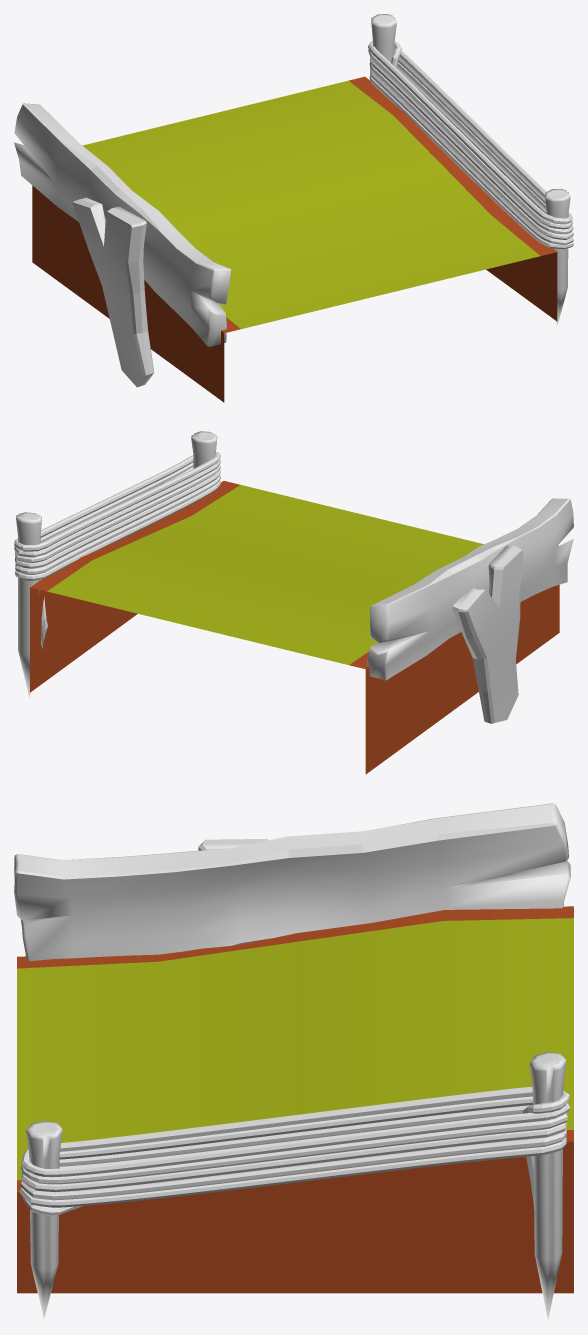
Rendered from Straight_Up_Begin_End01.fbx.
3 renders of one model, top to bottom at view 1: azimuth 30°, elevation 25°; view 2: azimuth 150°, elevation 25°; view 3: azimuth 270°, elevation 25°, orthographic. The views are drawn at different scales.
Parts seen in each view (by area): view 1: Cube.007; view 2: Cube.007; view 3: Cube.007.
Boxes of the visible parts, x1,y1,x2,y2 form: Cube.007: [14, 14, 573, 402]; Cube.007: [14, 431, 573, 774]; Cube.007: [14, 803, 573, 1319].
Size of the model in its own units: 234 by 114 by 201.
